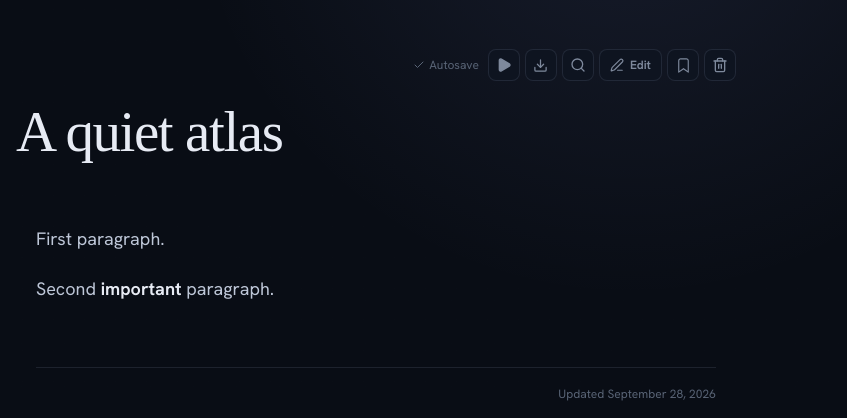
Test case: written-note playback tracking › downloads the complete displayed narration and cancels preparation on navigation
The width and height of the screenshot is (847, 418).
Step 1. Click the button named "Download narration" → (541, 65), box [525, 49, 557, 81]
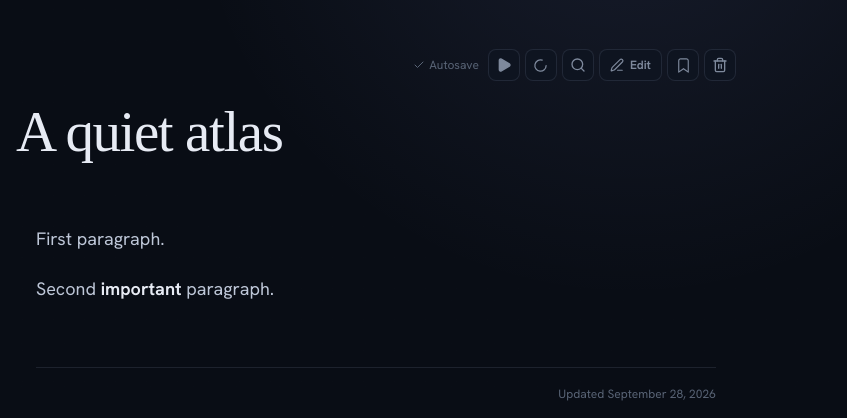
Result: the button named "Cancel narration download" is shown at [525, 49, 557, 81]
